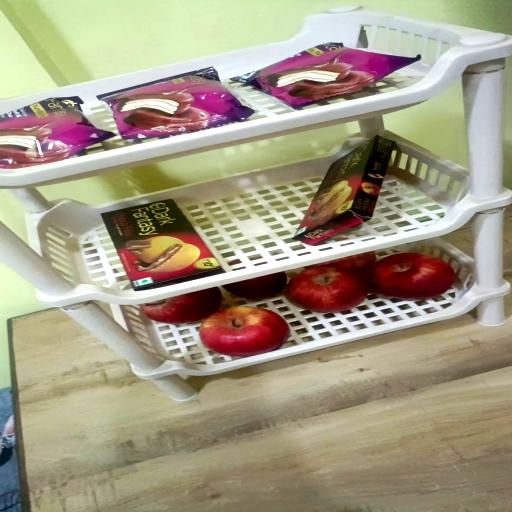Apple: (199, 306, 290, 357), (368, 253, 455, 299), (286, 266, 369, 313), (139, 287, 222, 324), (224, 272, 287, 300), (306, 251, 376, 273)
Choco Fills: (101, 199, 224, 291), (293, 136, 394, 245)
Choco Pie: (232, 42, 421, 108), (98, 67, 254, 140), (0, 97, 114, 169)
